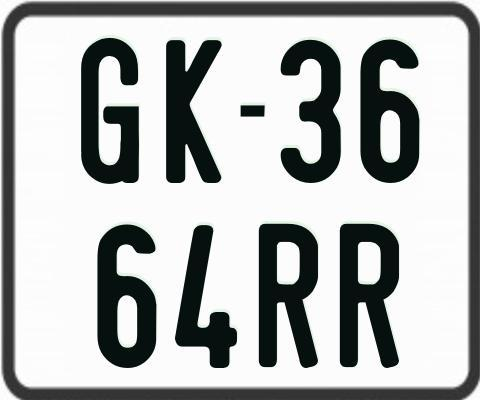3: (280, 38, 345, 184)
4: (174, 223, 239, 371)
6: (359, 39, 420, 184), (97, 225, 158, 370)
G: (81, 38, 139, 184)
K: (164, 40, 221, 185)
R: (258, 224, 319, 374), (339, 223, 402, 368)
